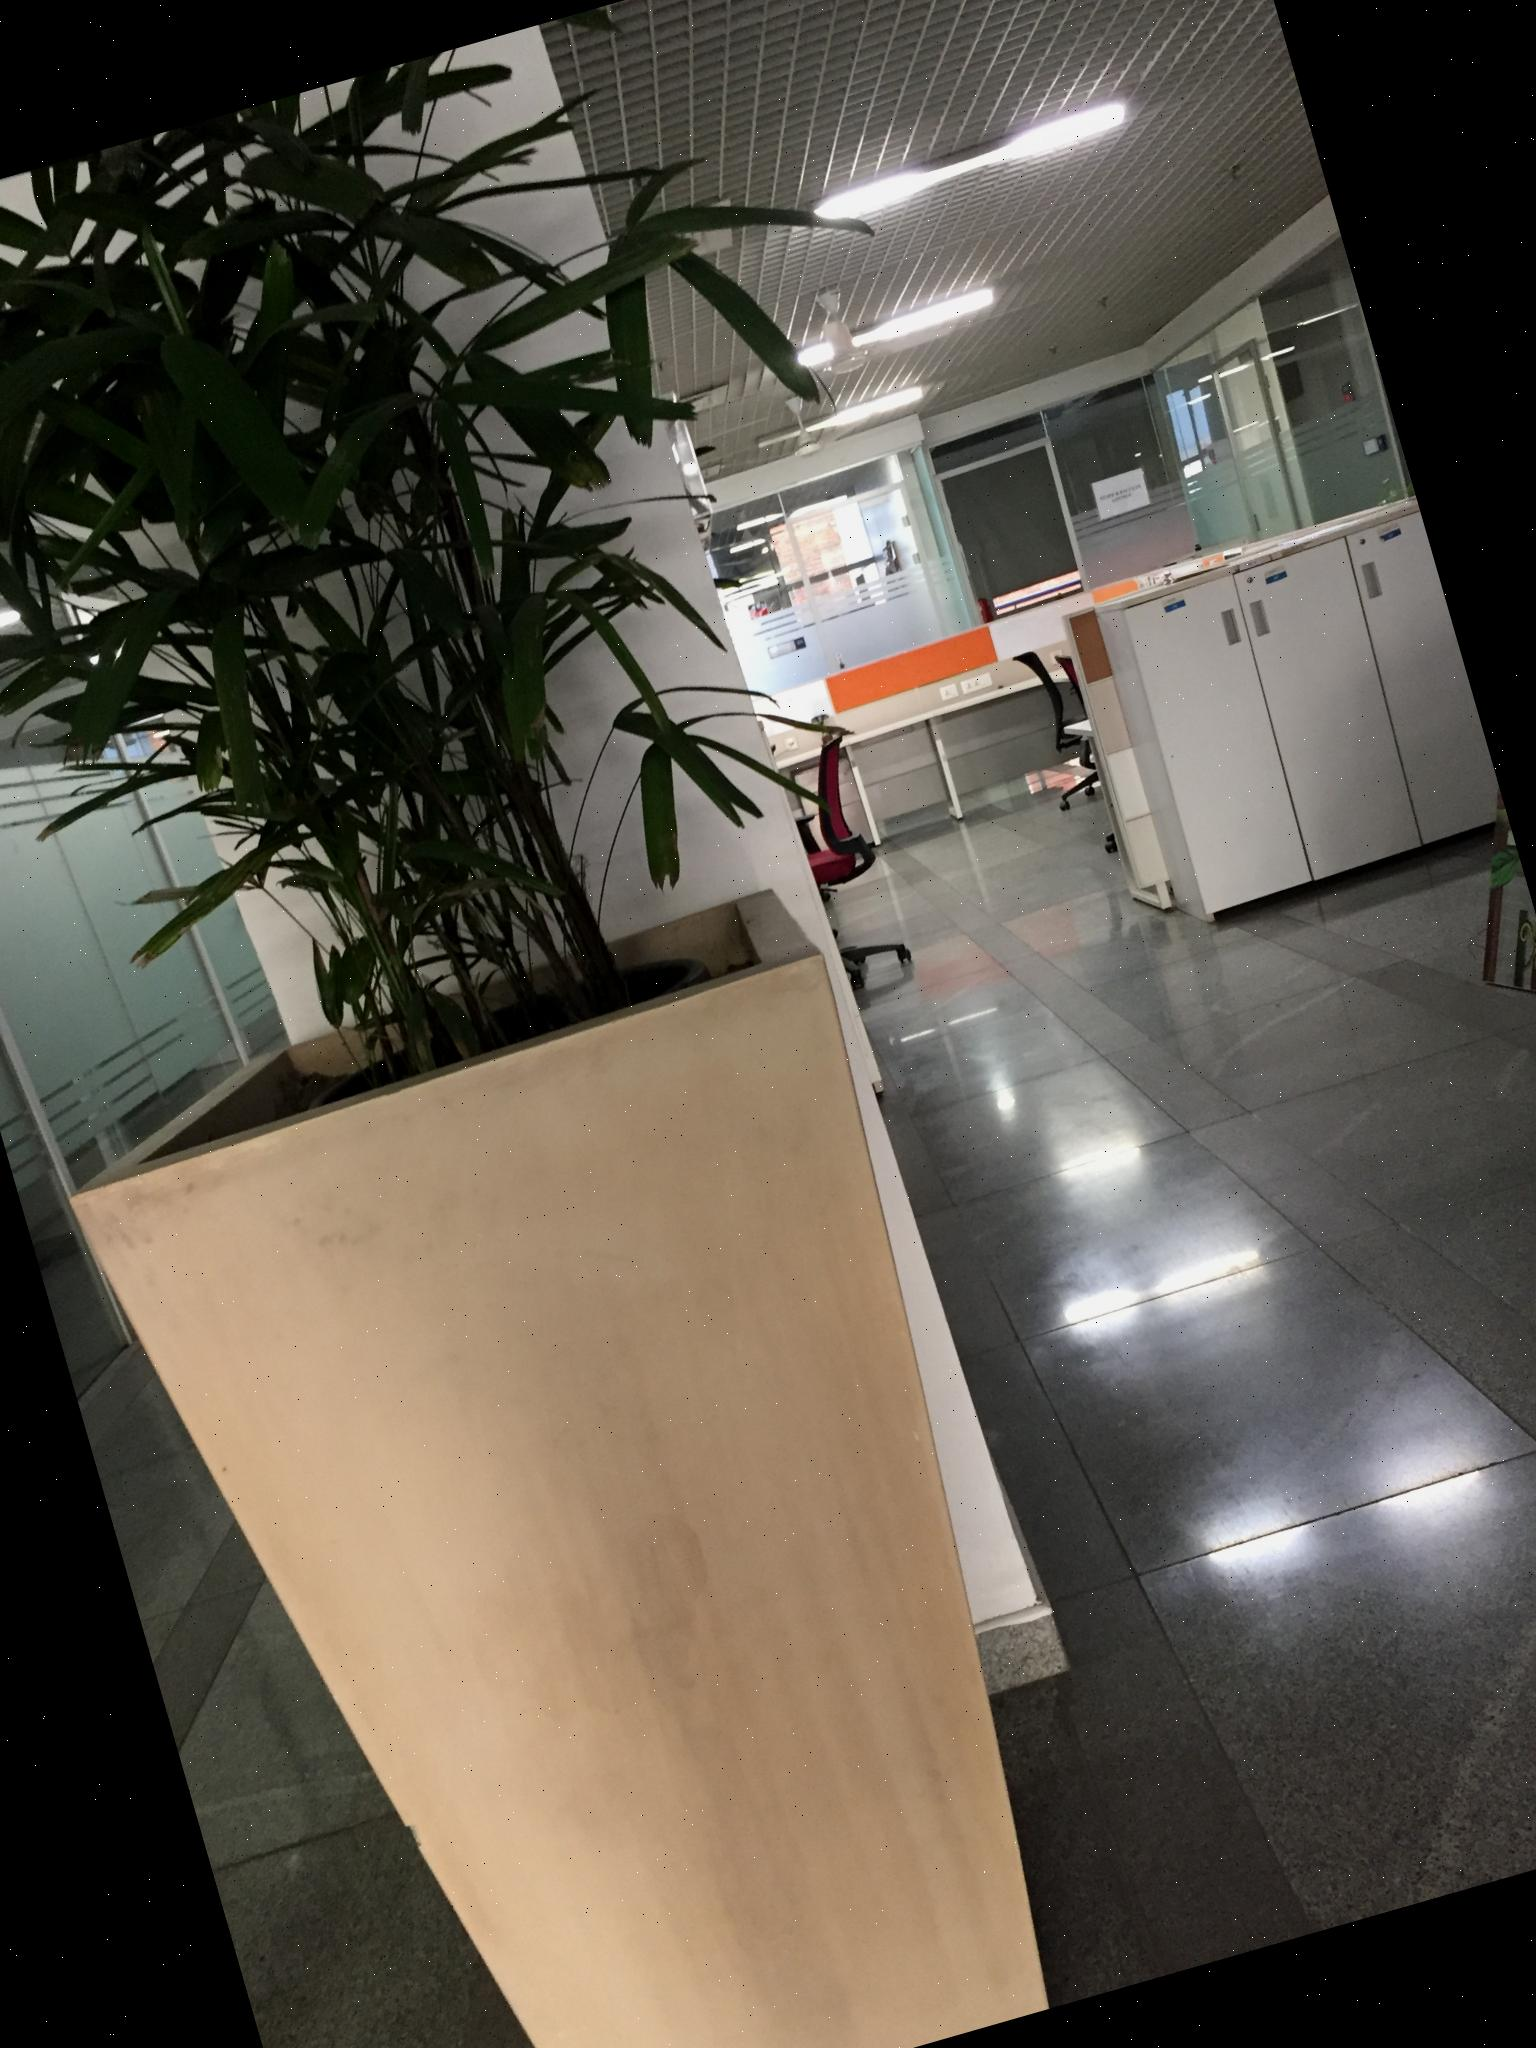chair: (774, 727, 915, 993), (1013, 640, 1108, 813)
